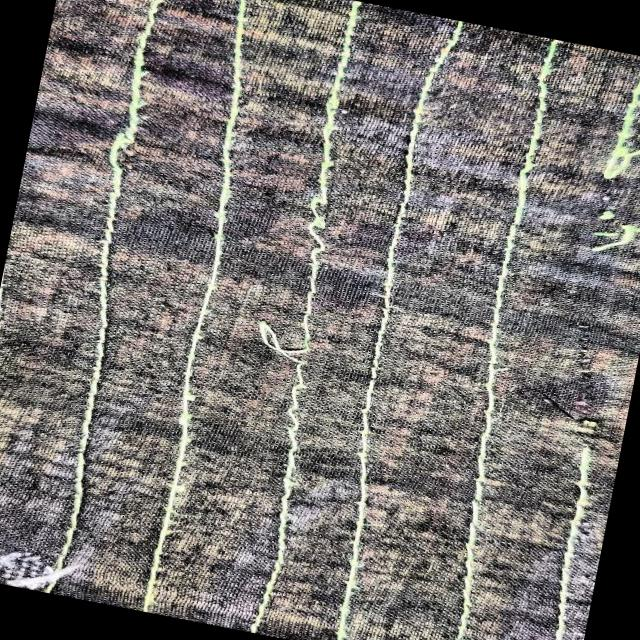gray stitch: (522, 314, 638, 496), (568, 124, 640, 272), (232, 310, 342, 395), (292, 172, 355, 274)
